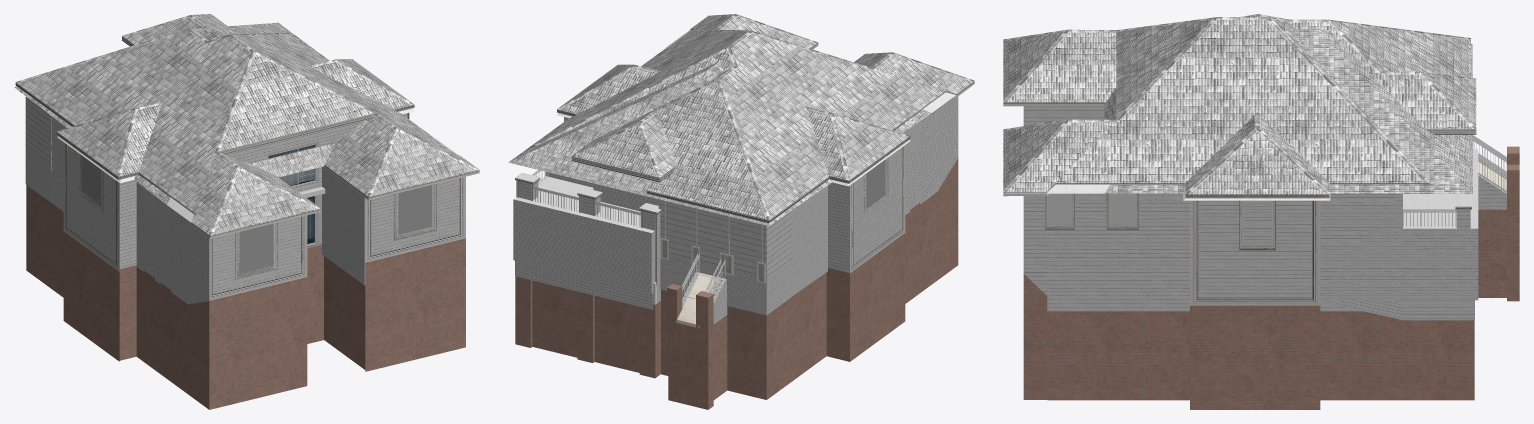
The model's file is house3.dae.
3 renders of one model, left to right at view 1: azimuth 30°, elevation 25°; view 2: azimuth 150°, elevation 25°; view 3: azimuth 270°, elevation 25°, orthographic. The views are drawn at different scales.
Parts seen in each view (by area): view 1: house3_a500, house3_a250, house3_a100, Colmesh-1; view 2: house3_a500, house3_a100, Colmesh-1, house3_a250; view 3: house3_a500, house3_a100, house3_a250, Colmesh-1.
Part boxes in pixels (x1,y1,x2,y2): house3_a500: (15,14,479,409); house3_a250: (67,54,459,293); house3_a100: (14,22,456,285); Colmesh-1: (25,96,51,201); house3_a500: (515,14,974,409); house3_a100: (508,30,955,315); Colmesh-1: (515,172,791,328); house3_a250: (664,96,955,328); house3_a500: (1003,14,1519,409); house3_a100: (1004,29,1478,300); house3_a250: (1047,20,1519,311); Colmesh-1: (1320,137,1519,320).
Bounding box in the file's own units: 18.8 × 24.43 × 16.23.
